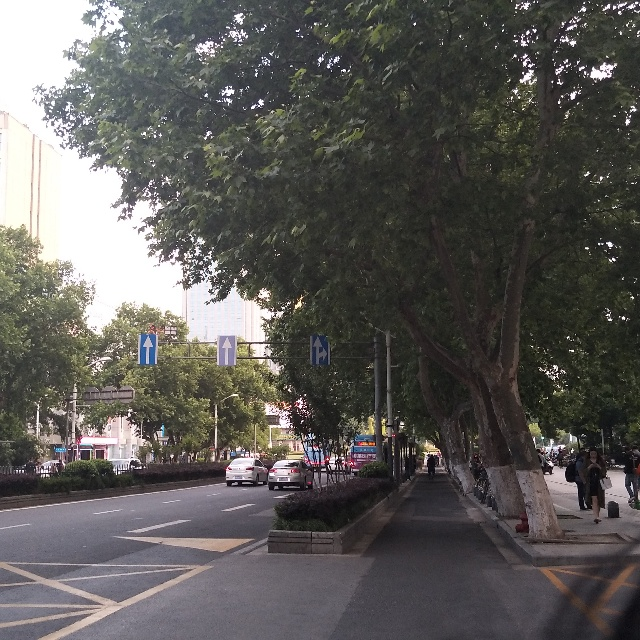straight: (139, 332, 159, 364), (218, 336, 238, 366)
